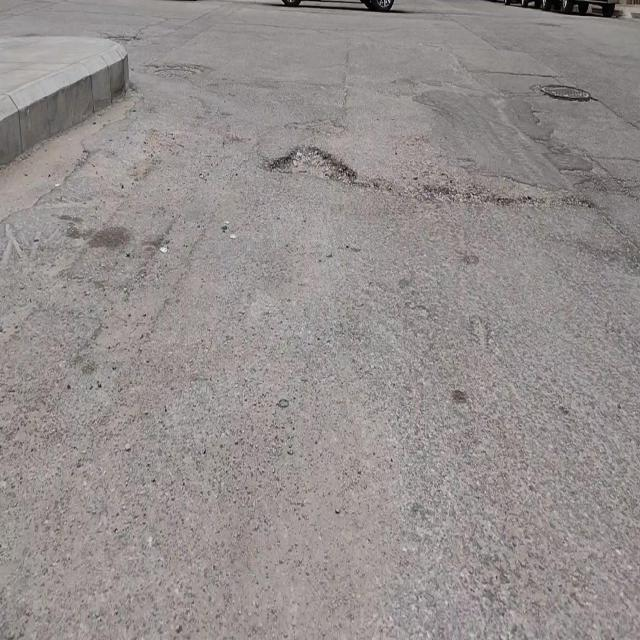Pothole: (266, 142, 355, 185)
